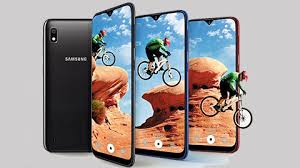samsung: (186, 13, 243, 158), (89, 2, 137, 167), (135, 9, 187, 159), (39, 15, 94, 155)
